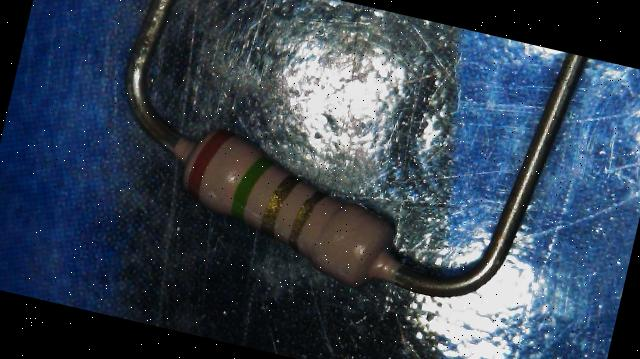brown: (184, 124, 232, 201)
gold: (260, 171, 300, 237), (289, 186, 327, 250)
green: (228, 151, 274, 224)
resistor: (143, 95, 415, 316)
